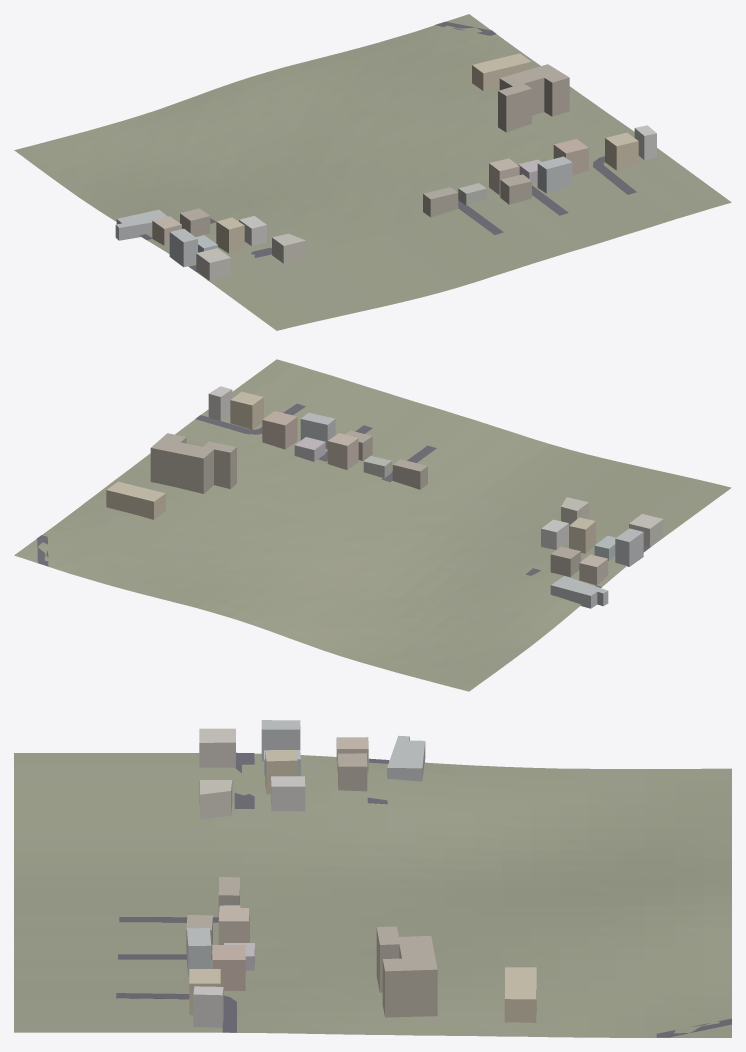
Rendered from chunk_1_9.glb.
3 views of the same model, one above another, from view 1: azimuth 30°, elevation 25°; view 2: azimuth 150°, elevation 25°; view 3: azimuth 270°, elevation 25° (orthographic). The views are drawn at different scales.
Parts seen in each view (by area): view 1: geometry_20, geometry_6, geometry_7, geometry_16, geometry_12, geometry_14, geometry_13, geometry_2, geometry_1, geometry_0, geometry_8, geometry_19 (+6 smaller); view 2: geometry_20, geometry_6, geometry_7, geometry_14, geometry_19, geometry_12, geometry_11, geometry_2, geometry_16, geometry_8, geometry_1, geometry_3 (+7 smaller); view 3: geometry_20, geometry_6, geometry_7, geometry_13, geometry_14, geometry_19, geometry_17, geometry_0, geometry_15, geometry_2, geometry_3, geometry_11 (+7 smaller).
Part boxes in pixels (<box>): geometry_20: <box>14,14,731,330</box>; geometry_6: <box>498,64,569,132</box>; geometry_7: <box>472,53,531,90</box>; geometry_16: <box>537,156,572,193</box>; geometry_12: <box>605,132,638,170</box>; geometry_14: <box>115,209,167,240</box>; geometry_13: <box>196,248,230,280</box>; geometry_2: <box>169,228,197,267</box>; geometry_1: <box>216,217,244,253</box>; geometry_0: <box>272,233,305,263</box>; geometry_8: <box>423,187,458,217</box>; geometry_19: <box>553,139,588,175</box>; geometry_20: <box>14,359,731,691</box>; geometry_6: <box>150,433,236,493</box>; geometry_7: <box>106,481,165,519</box>; geometry_14: <box>550,576,608,608</box>; geometry_19: <box>262,411,297,449</box>; geometry_12: <box>230,391,263,429</box>; geometry_11: <box>327,433,358,470</box>; geometry_2: <box>615,528,643,566</box>; geometry_16: <box>300,412,335,449</box>; geometry_8: <box>392,459,427,489</box>; geometry_1: <box>569,517,595,553</box>; geometry_3: <box>550,546,580,577</box>; geometry_20: <box>14,753,731,1037</box>; geometry_6: <box>376,926,437,1017</box>; geometry_7: <box>504,967,536,1022</box>; geometry_13: <box>199,728,235,767</box>; geometry_14: <box>387,735,425,781</box>; geometry_19: <box>212,945,245,990</box>; geometry_17: <box>193,986,223,1027</box>; geometry_0: <box>199,780,232,819</box>; geometry_15: <box>271,776,305,811</box>; geometry_2: <box>261,720,300,761</box>; geometry_3: <box>338,753,367,791</box>; geometry_11: <box>218,908,249,944</box>.
Size of the model in its own units: 259 by 32.19 by 250.
